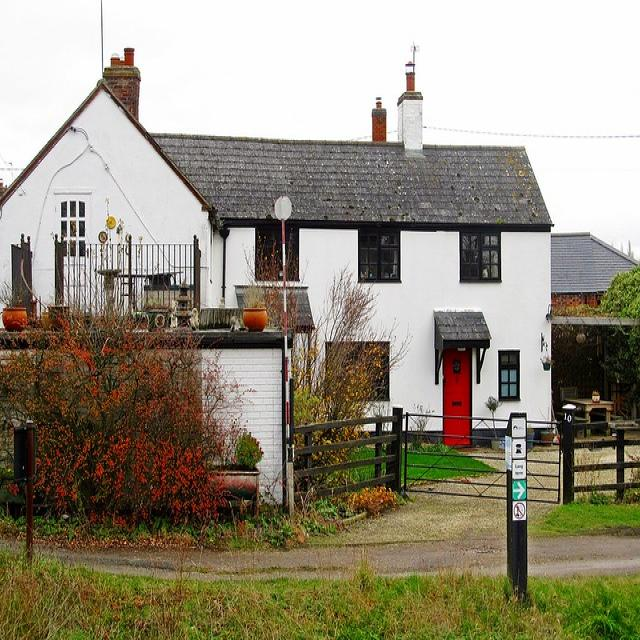building: (0, 56, 554, 532)
